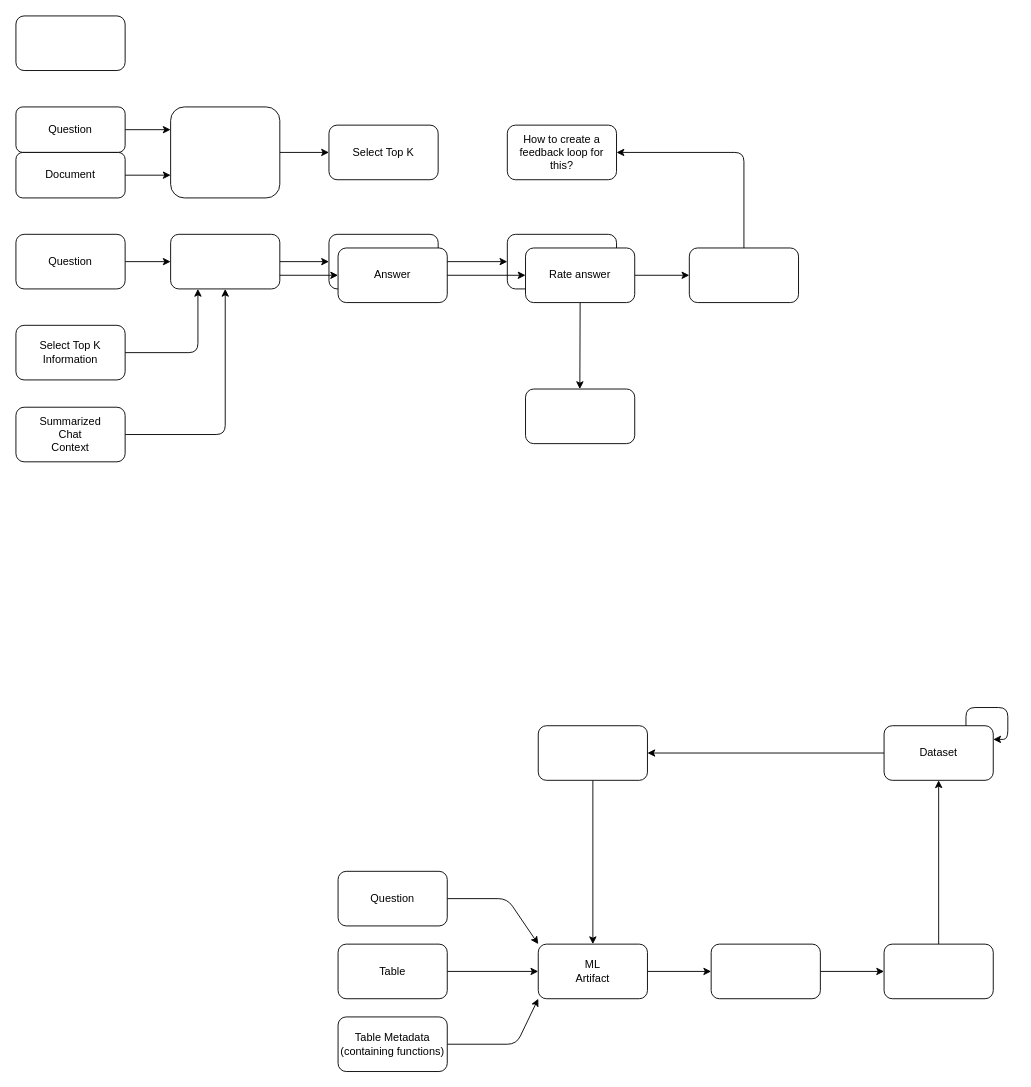
Image size: 1031x1087. Some labels were removed from this diagram. Here are the shapes that lost their labels. From the top down, the centre of each, then its label:
At [70,43]: "Data Engine".
At [225,152]: "Similarity Embedding Model / Two Towers model".
At [225,261]: "Personal ChatGPT".
At [743,275]: "if score > x mark as positive interaction".
At [580,416]: "Use for training Language generation model".
At [592,752]: "Train / Evaluate".
At [765,971]: "Prediction".
At [938,971]: "Correct? (yes/no)".
